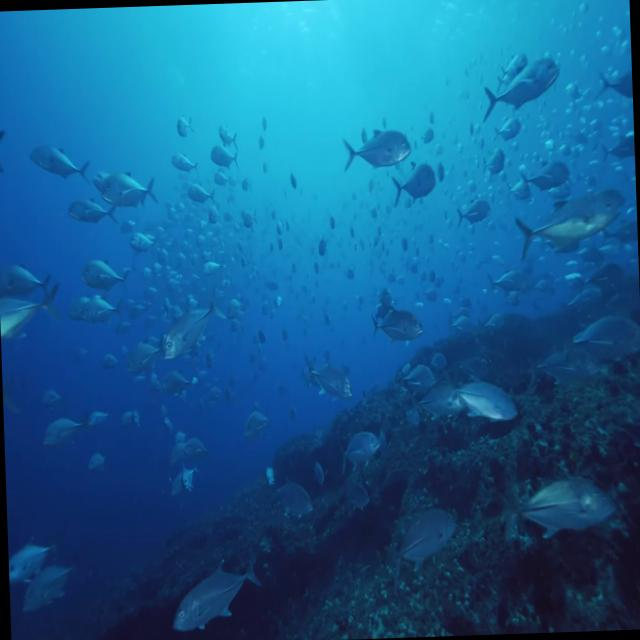fish: (500, 471, 618, 539), (514, 195, 628, 258), (172, 555, 260, 632), (484, 54, 560, 122), (155, 292, 222, 362), (441, 371, 517, 419), (29, 142, 90, 186), (342, 130, 412, 168), (90, 168, 156, 206), (80, 253, 132, 296), (390, 162, 437, 202), (370, 308, 425, 342)
